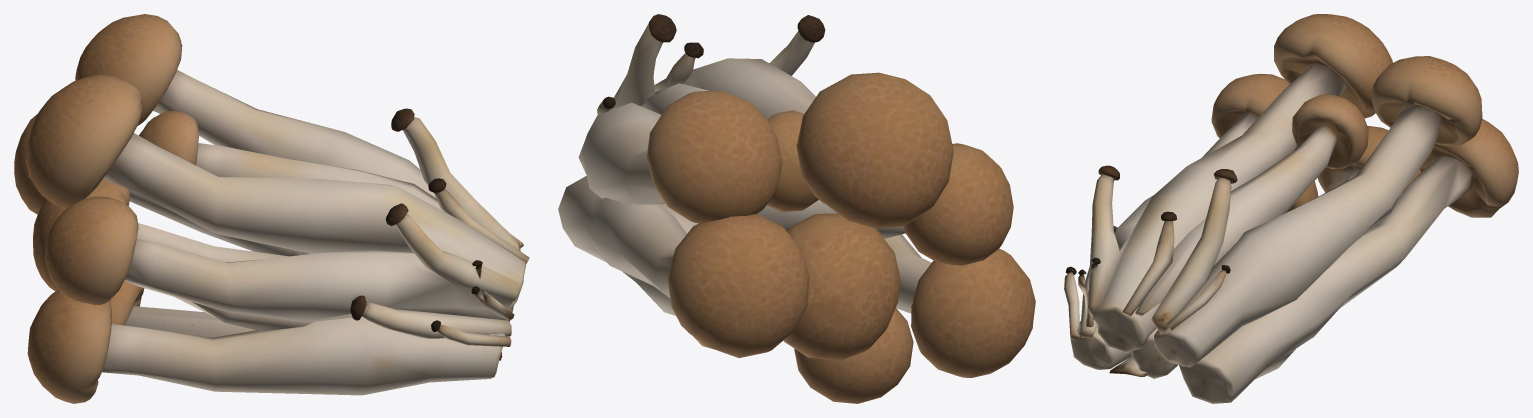
The picture shows the model from 3 angles, left to right: view 1: azimuth 30°, elevation 25°; view 2: azimuth 150°, elevation 25°; view 3: azimuth 270°, elevation 25°; orthographic projection. The views are drawn at different scales.
Visible parts, largest first — view 1: Shimeji Mushroom; view 2: Shimeji Mushroom; view 3: Shimeji Mushroom.
Part boxes in pixels (left/top/right/bottom): Shimeji Mushroom: left=14, top=14, right=529, bottom=403; Shimeji Mushroom: left=558, top=14, right=1035, bottom=403; Shimeji Mushroom: left=1064, top=14, right=1518, bottom=403.
Size of the model in its own units: 0.998 by 0.6309 by 0.998.
1 material, 1 textured.
